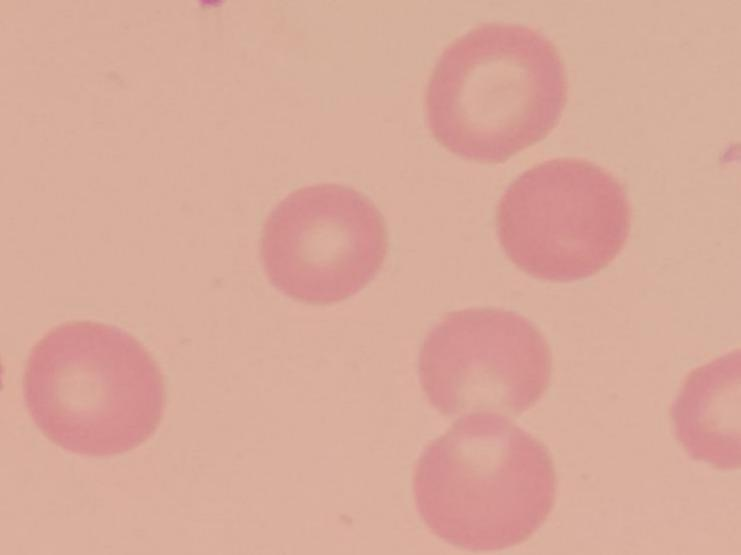Uninfected: (424, 20, 564, 166), (414, 412, 556, 552), (24, 323, 164, 458), (419, 305, 551, 433), (499, 160, 632, 285), (260, 182, 386, 307), (671, 349, 741, 471)
